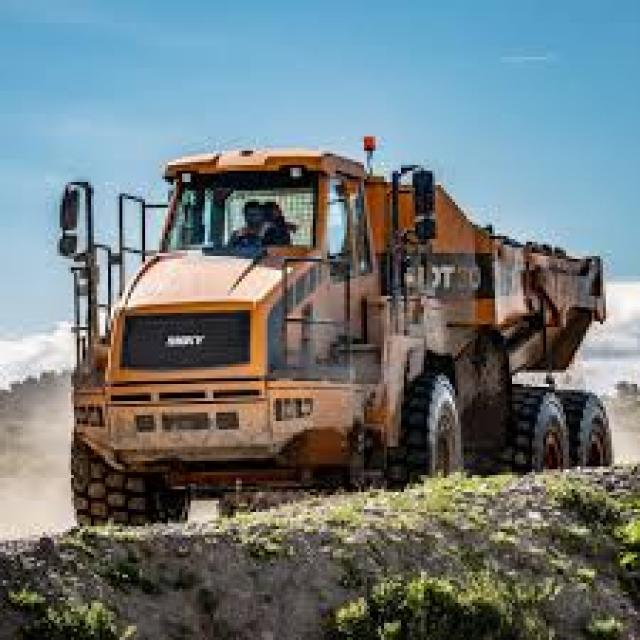dump_truck: (54, 126, 623, 550)
